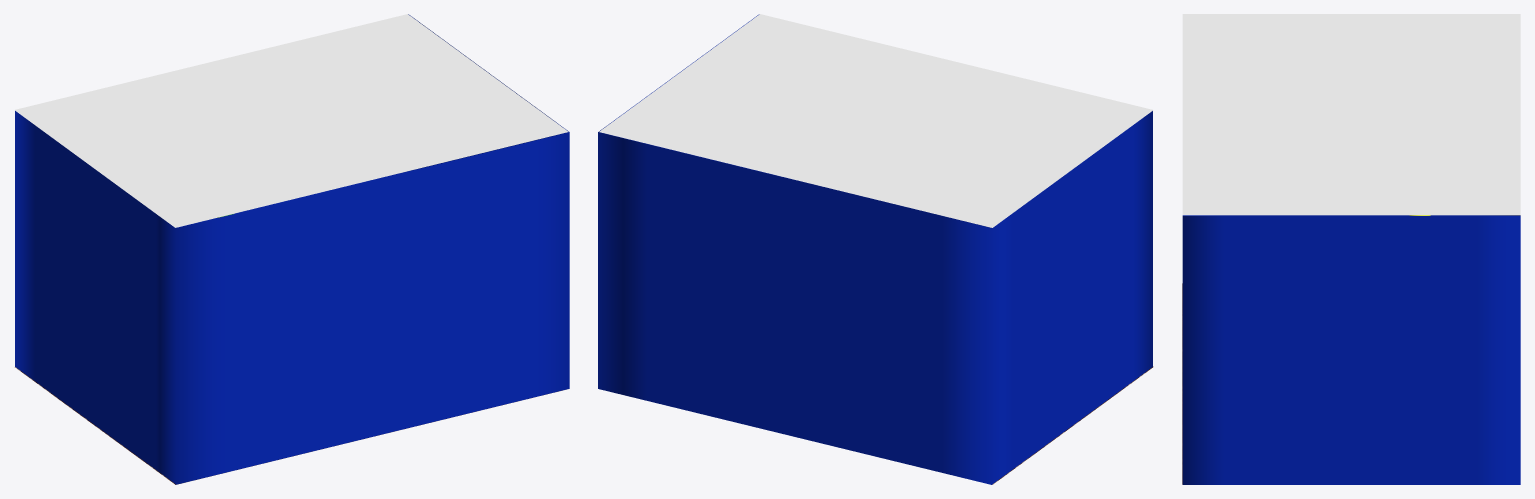
The model's file is scene_candelabre.obj.
The picture shows the model from 3 angles, left to right: view 1: azimuth 30°, elevation 25°; view 2: azimuth 150°, elevation 25°; view 3: azimuth 270°, elevation 25°; orthographic projection. The views are drawn at different scales.
Visible parts, largest first — view 1: Murs, Plafond; view 2: Murs, Plafond; view 3: Murs, Plafond.
Part boxes in pixels (left/top/right/bottom): Murs: left=15, top=14, right=569, bottom=484; Plafond: left=14, top=14, right=568, bottom=227; Murs: left=598, top=14, right=1152, bottom=484; Plafond: left=599, top=14, right=1153, bottom=227; Murs: left=1182, top=215, right=1520, bottom=484; Plafond: left=1182, top=14, right=1520, bottom=215.
Bounding box in the file's own units: 14.68 × 9.15 × 10.41.
Materials: 8 (2 with a texture image).
